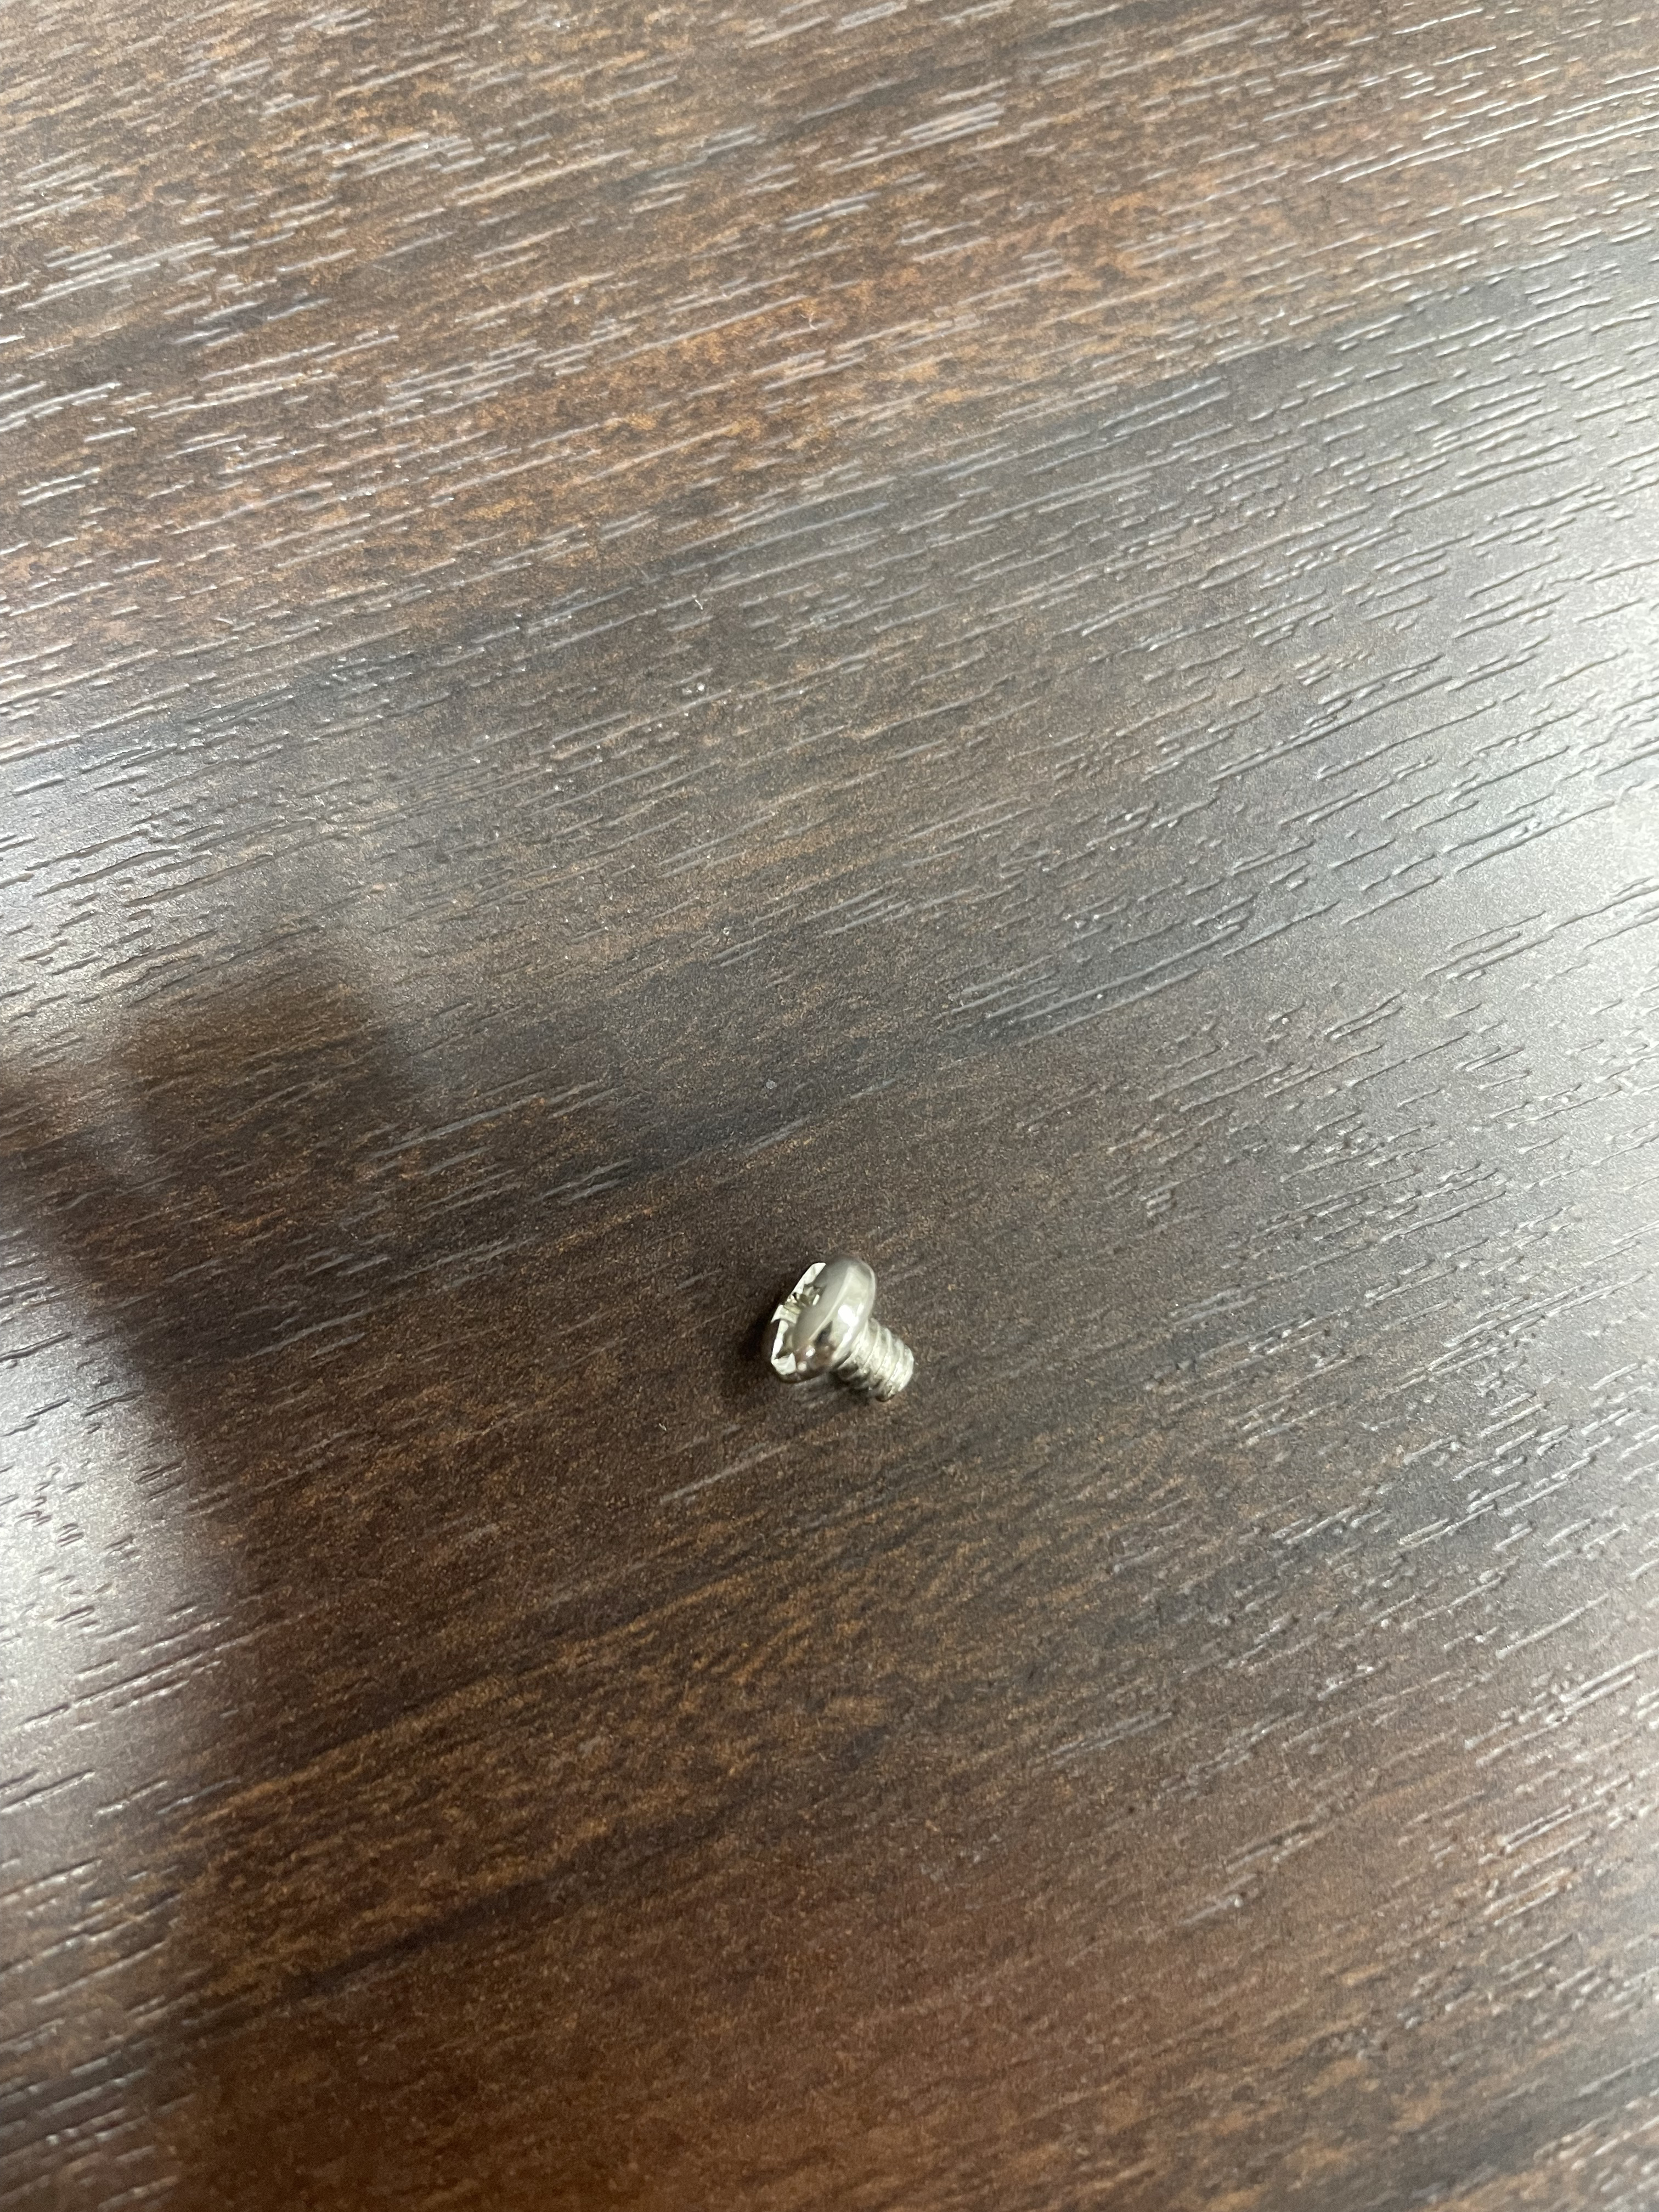screw4: (757, 1256, 921, 1410)
